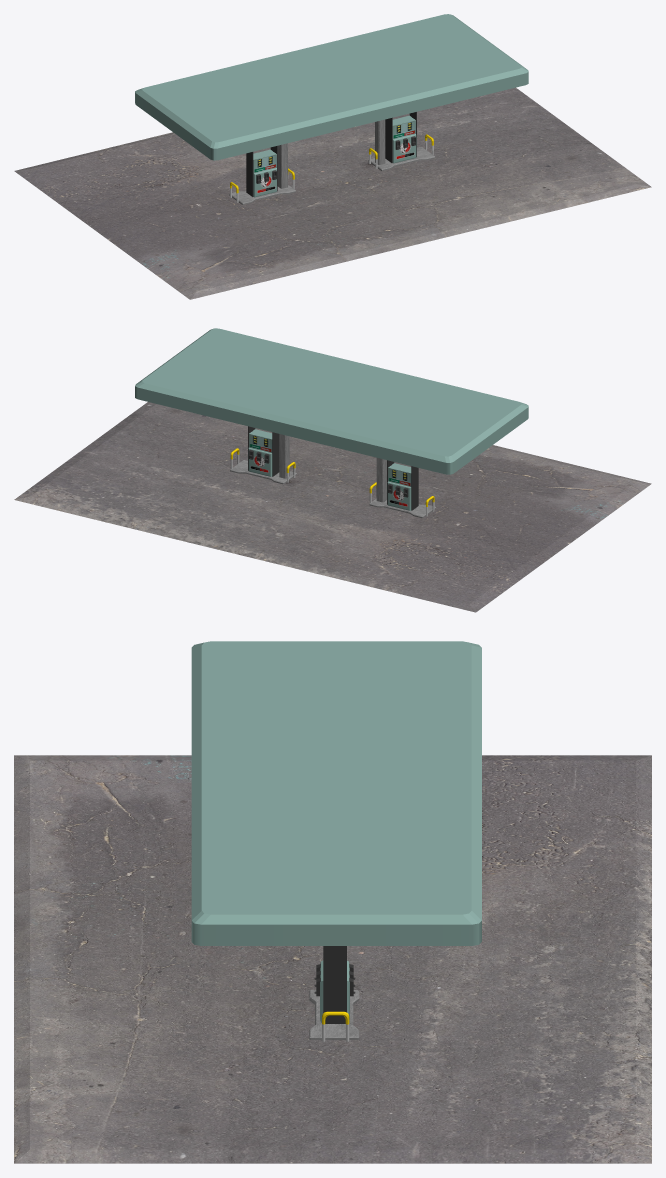
Rendered from Gas Station.fbx.
3 renders of one model, top to bottom at view 1: azimuth 30°, elevation 25°; view 2: azimuth 150°, elevation 25°; view 3: azimuth 270°, elevation 25°, orthographic. The views are drawn at different scales.
Parts seen in each view (by area): view 1: Ground, Ciling, Gas_Pump_2, Gas_Pump_1, Column_1, Column_2; view 2: Ground, Ciling, Gas_Pump_2, Gas_Pump_1, Column_1, Column_2; view 3: Ground, Ciling, Gas_Pump_2.
Boxes of the visible parts, x1,y1,x2,y2 form: Ground: [14, 87, 651, 299]; Ciling: [135, 14, 528, 160]; Gas_Pump_2: [368, 112, 435, 170]; Gas_Pump_1: [229, 146, 295, 204]; Column_1: [277, 143, 287, 188]; Column_2: [375, 119, 385, 164]; Ground: [14, 402, 651, 612]; Ciling: [135, 328, 528, 474]; Gas_Pump_2: [230, 426, 296, 484]; Gas_Pump_1: [369, 460, 435, 518]; Column_1: [376, 458, 386, 502]; Column_2: [279, 434, 289, 478]; Ground: [14, 755, 651, 1163]; Ciling: [191, 641, 481, 945]; Gas_Pump_2: [309, 946, 359, 1041].
Bounding box in the file's own units: 34.86 × 7.22 × 23.01.
7 materials, 6 textured.
